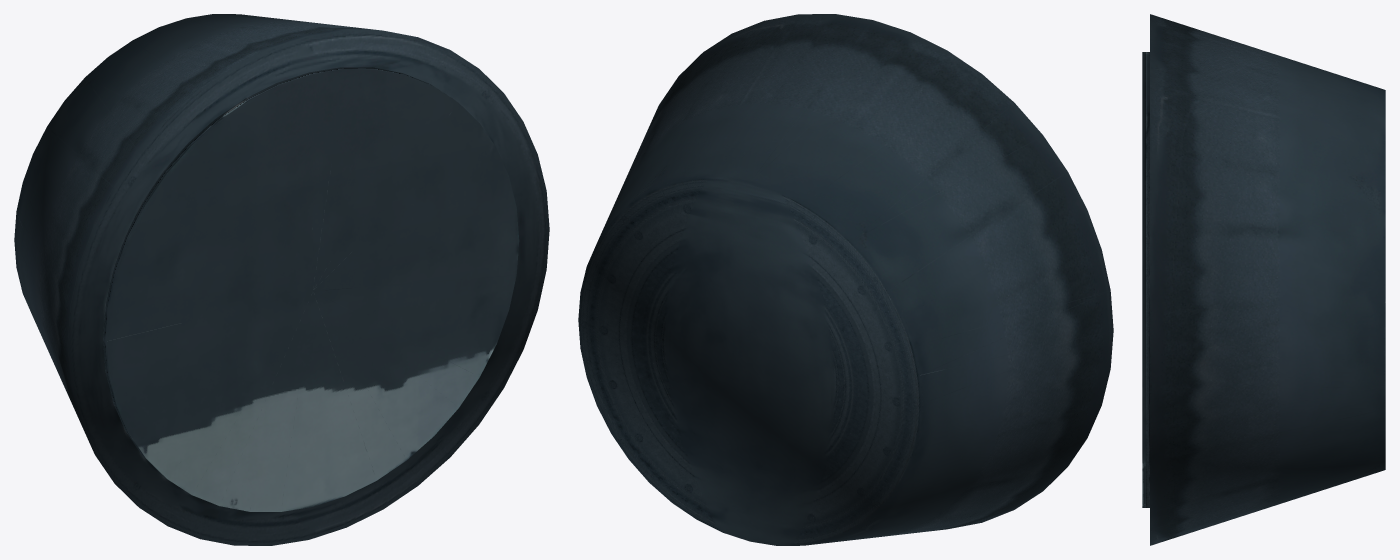
Rendered from SM_Tuyere_Main.glb.
The picture shows the model from 3 angles, left to right: view 1: azimuth 30°, elevation 25°; view 2: azimuth 150°, elevation 25°; view 3: azimuth 270°, elevation 25°; orthographic projection. The views are drawn at different scales.
Size of the model in its own units: 2 by 2 by 0.9143.
1 material, 1 textured.
